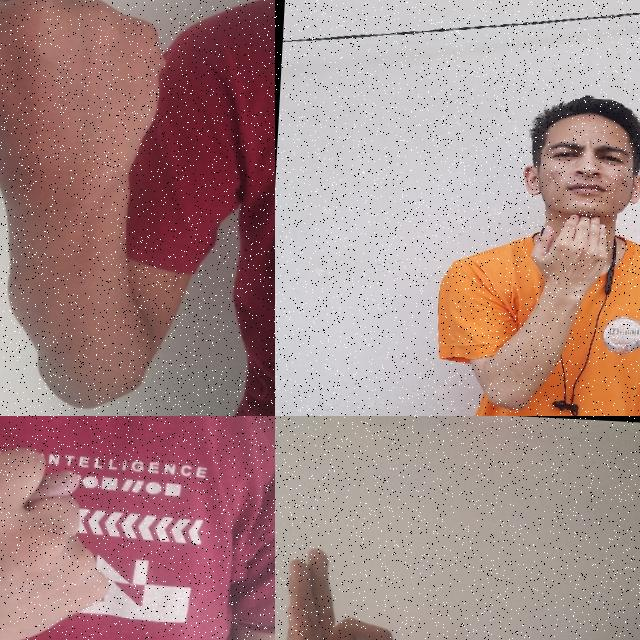Chin Flick: (506, 77, 640, 306)
Dulya: (0, 0, 180, 223), (0, 434, 121, 640)
Okay: (275, 540, 419, 640)
